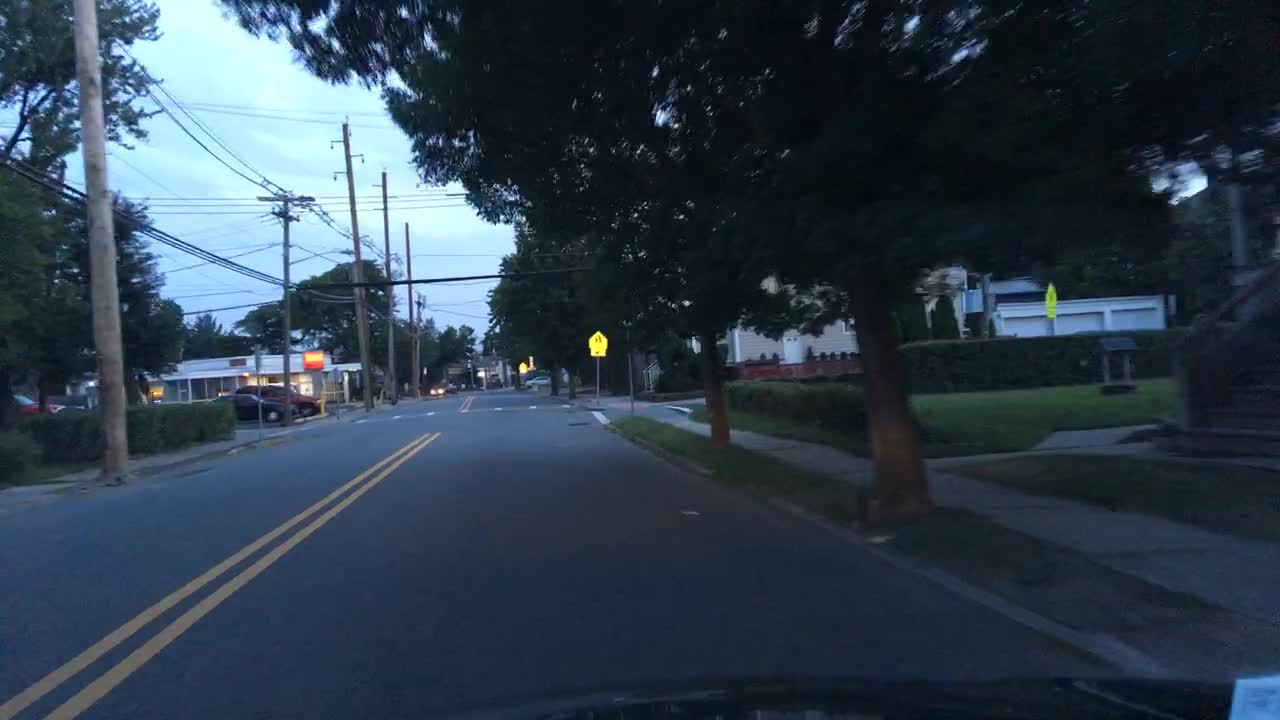car: (231, 381, 320, 417), (206, 393, 280, 425), (3, 388, 65, 414), (523, 373, 552, 388), (427, 383, 449, 398), (449, 378, 459, 393)
traffic sign: (587, 331, 606, 358), (1044, 282, 1056, 319), (516, 359, 528, 374)
